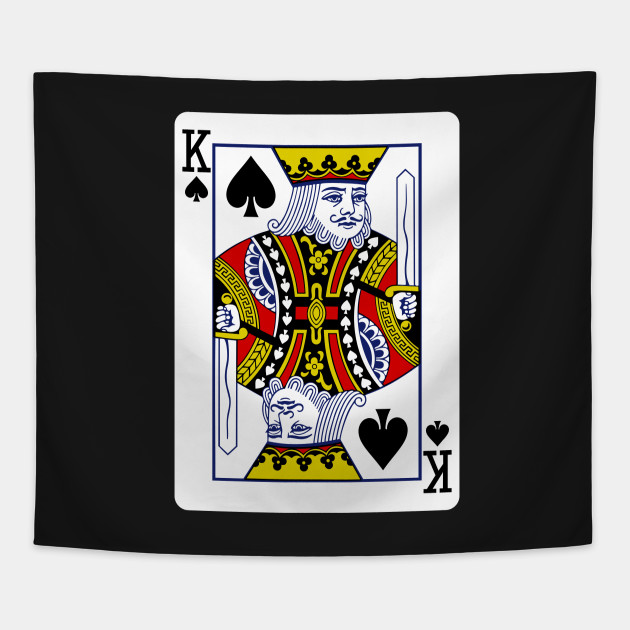king of spades: (173, 105, 461, 509)
